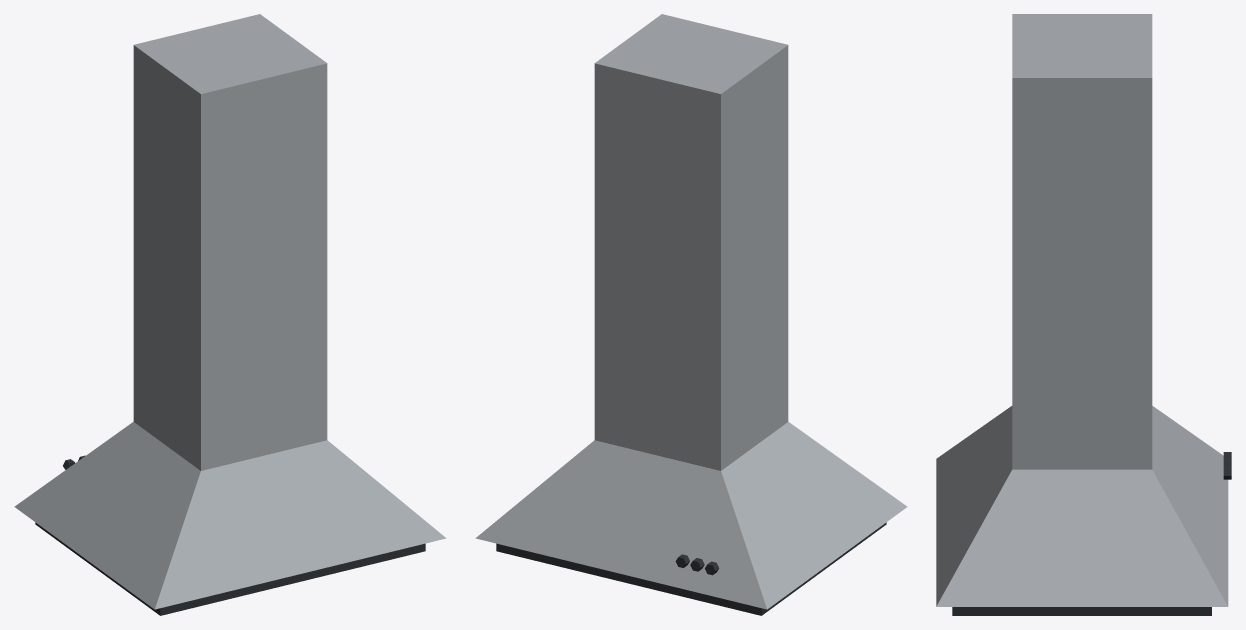
Rendered from SM_LPI_Appl_Hood_01.fbx.
3 views of the same model, side by side, from view 1: azimuth 30°, elevation 25°; view 2: azimuth 150°, elevation 25°; view 3: azimuth 270°, elevation 25° (orthographic). The views are drawn at different scales.
Visible parts, largest first — view 1: SM_LPI_Appl_Hood_01; view 2: SM_LPI_Appl_Hood_01; view 3: SM_LPI_Appl_Hood_01.
Part boxes in pixels (bbox=[...]): SM_LPI_Appl_Hood_01: bbox=[14, 14, 446, 615]; SM_LPI_Appl_Hood_01: bbox=[475, 14, 907, 615]; SM_LPI_Appl_Hood_01: bbox=[936, 14, 1231, 615].
Size of the model in its own units: 0.6 by 0.95 by 0.506.
